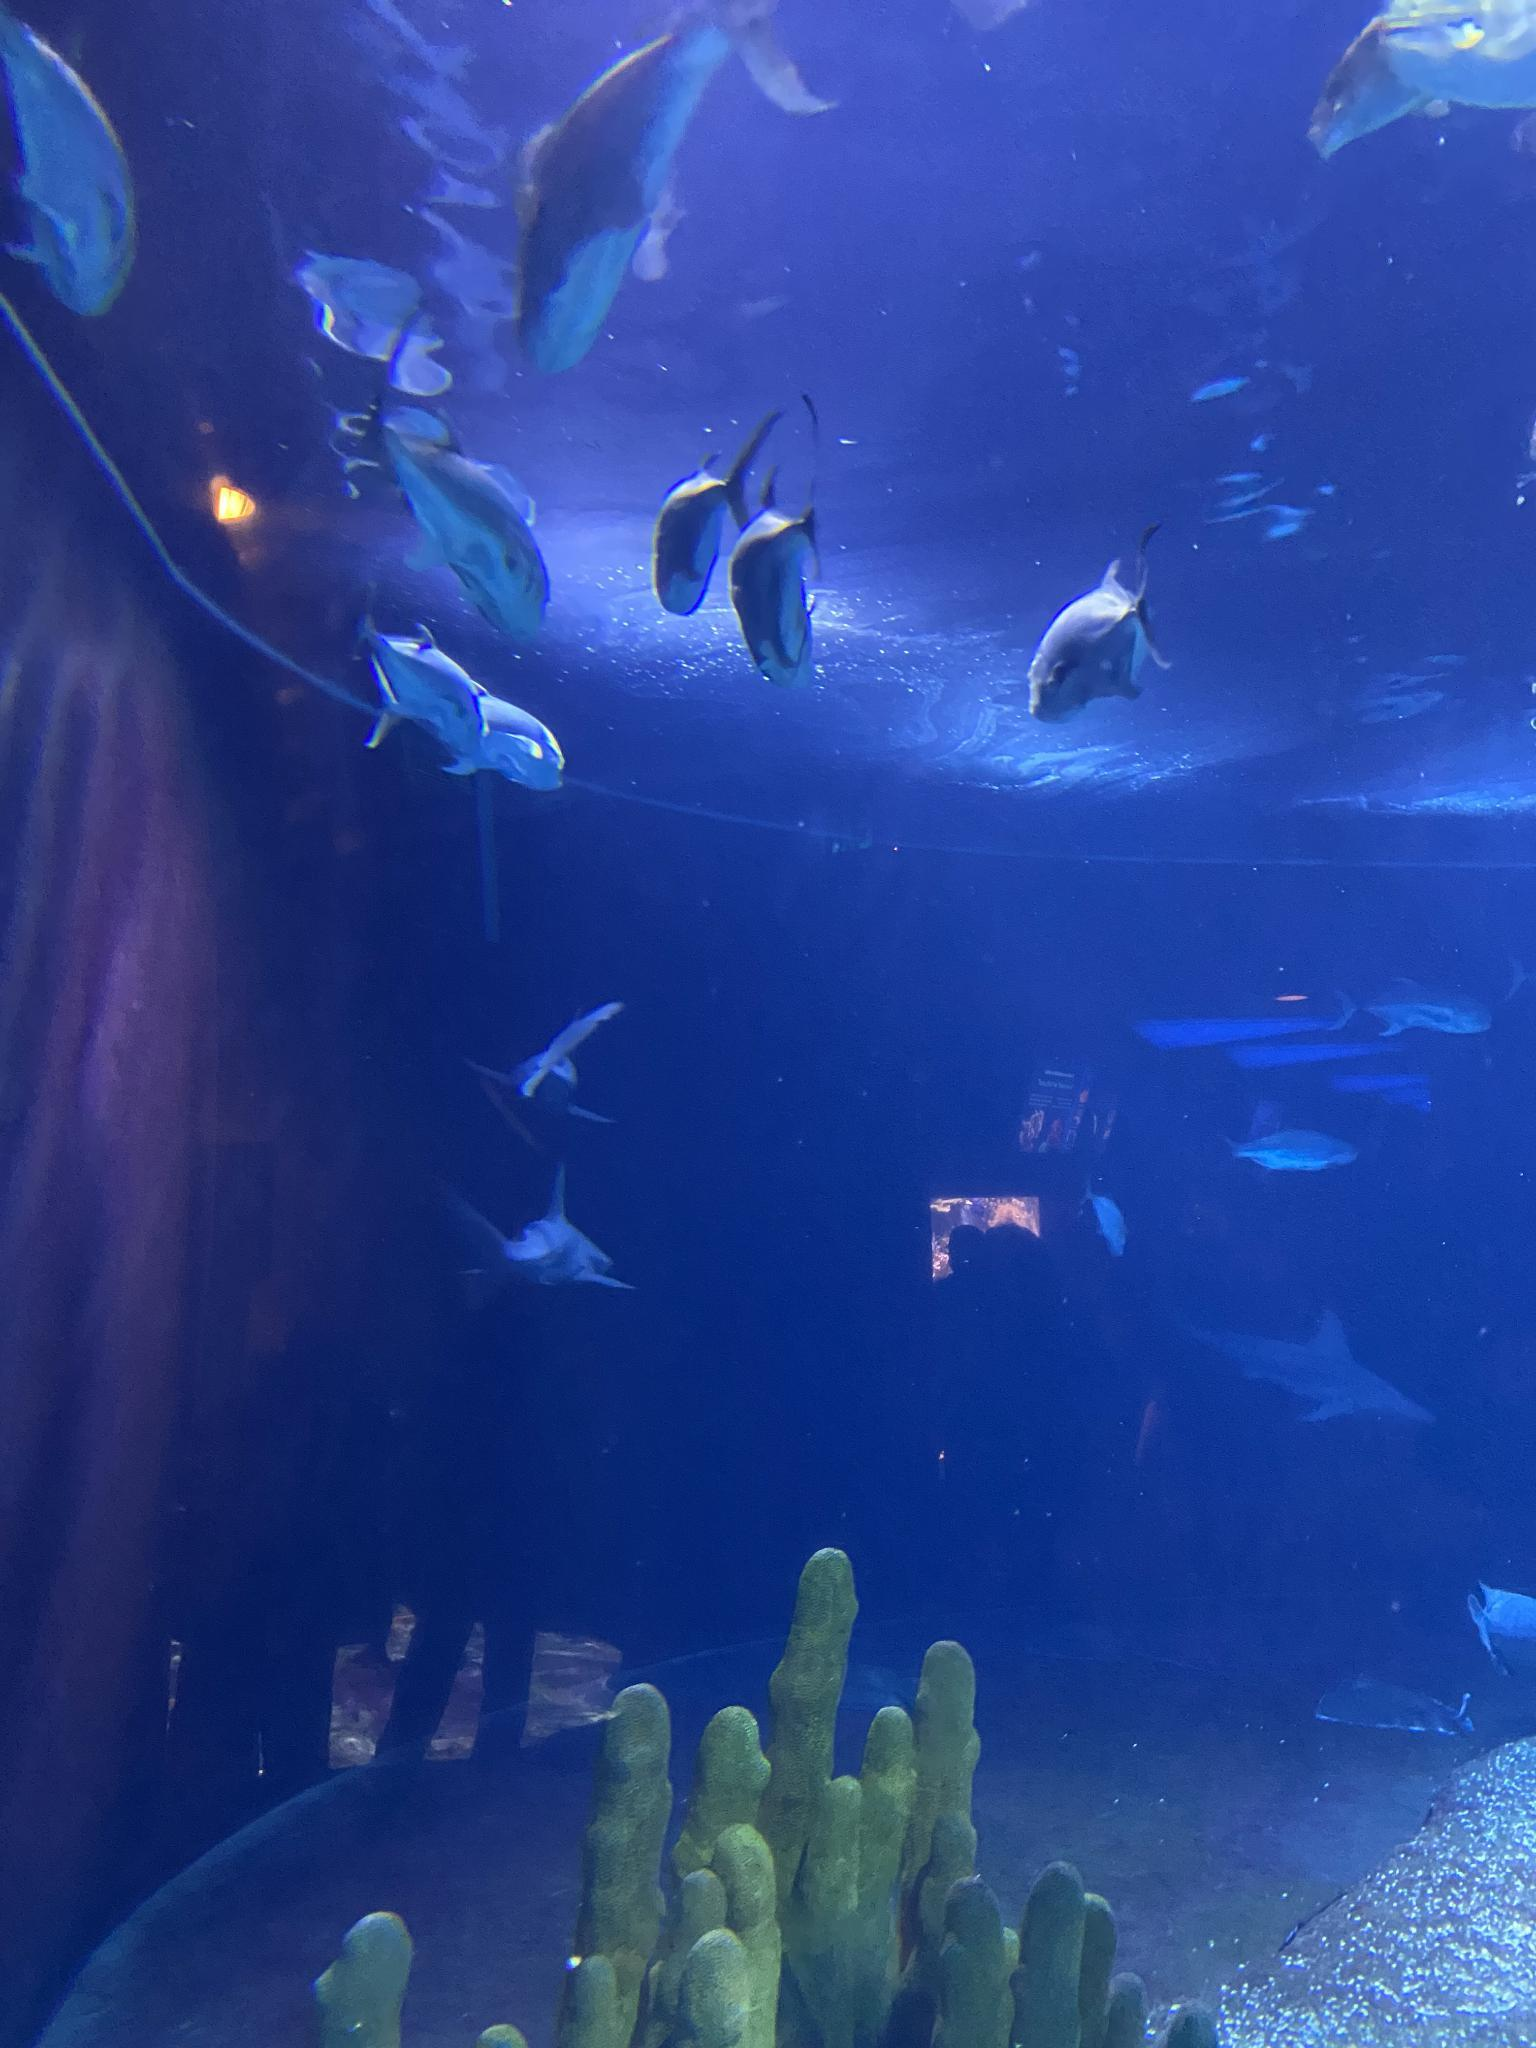fish: (502, 0, 837, 381), (0, 0, 145, 314), (373, 414, 552, 640), (653, 390, 792, 619), (1025, 547, 1187, 726), (1307, 0, 1496, 153), (473, 974, 650, 1135), (353, 601, 486, 755), (729, 471, 821, 685), (439, 677, 566, 798), (1205, 1119, 1373, 1177), (1471, 1585, 1536, 1667)
shark: (1175, 1295, 1441, 1435), (444, 1156, 641, 1306), (1331, 971, 1492, 1047)
stingray: (1318, 1677, 1471, 1738)
